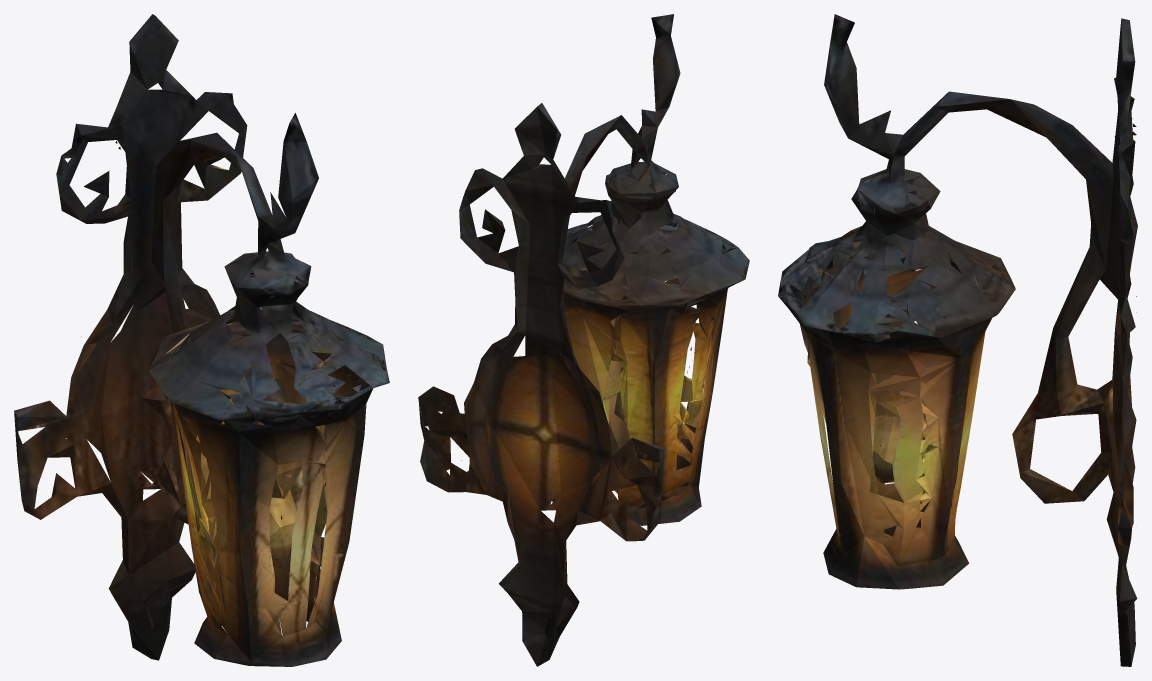
The model's file is lantern_wall_scroll_lod0.glb.
3 views of the same model, side by side, from view 1: azimuth 30°, elevation 25°; view 2: azimuth 150°, elevation 25°; view 3: azimuth 270°, elevation 25° (orthographic). The views are drawn at different scales.
Visible parts, largest first — view 1: lantern_wall_scroll_lod0; view 2: lantern_wall_scroll_lod0; view 3: lantern_wall_scroll_lod0.
Part boxes in pixels (<box>): lantern_wall_scroll_lod0: <box>14,14,389,666</box>; lantern_wall_scroll_lod0: <box>418,14,749,666</box>; lantern_wall_scroll_lod0: <box>778,14,1137,666</box>.
Bounding box in the file's own units: 0.2715 × 0.595 × 0.2993.
Materials: 1 (1 with a texture image).
